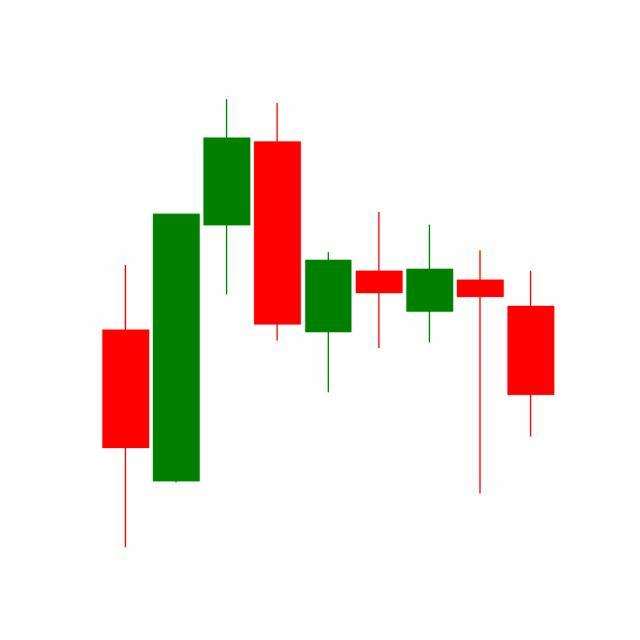Hikkake Pattern: (252, 99, 506, 499)
